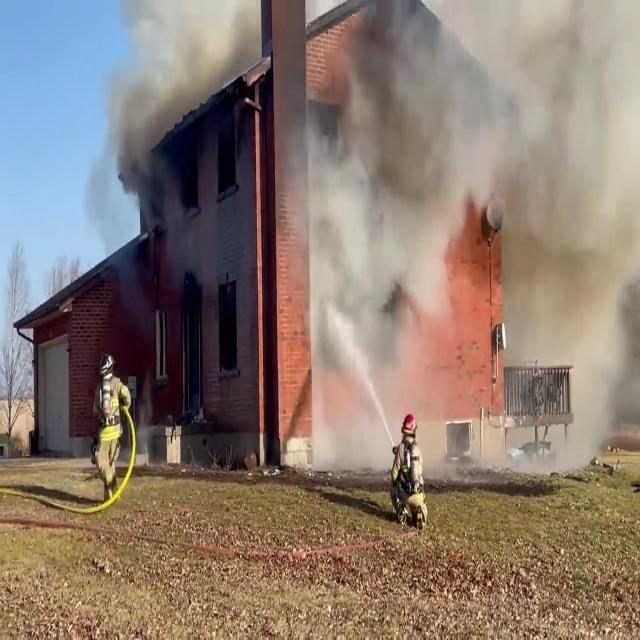Smoke: (280, 2, 456, 460), (504, 0, 640, 455), (95, 4, 197, 290)
